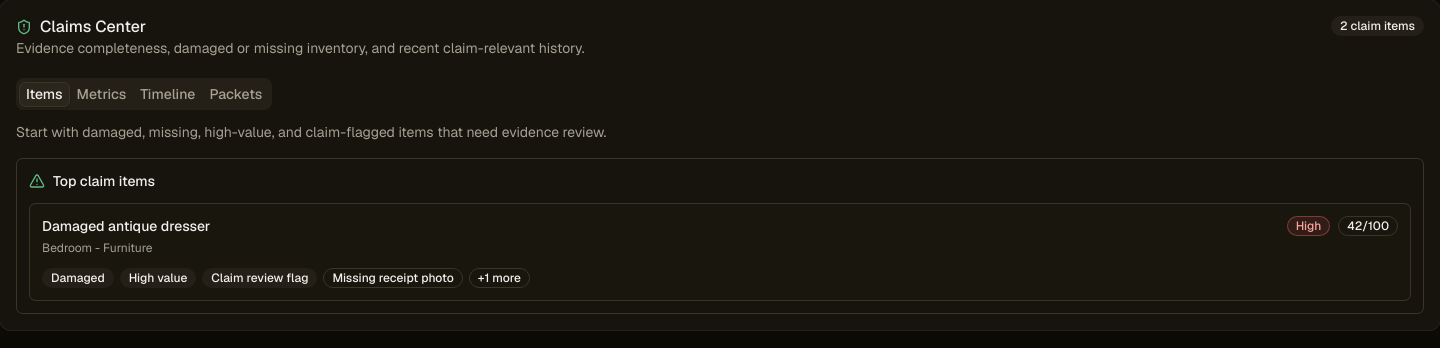
Test: ClaimsCenterPanel task tabs › opens on claim items and separates metrics, timeline, and packet actions
Expected: the text "Start with damaged, missing, high-value, and claim-flagged items that need evidence review." is shown, x1=16 y1=123 x2=606 y2=141
Expected: the text "Top claim items" is shown, x1=29 y1=172 x2=155 y2=190
Click the tab "Metrics": (101, 94) x1=70 y1=82 x2=133 y2=106
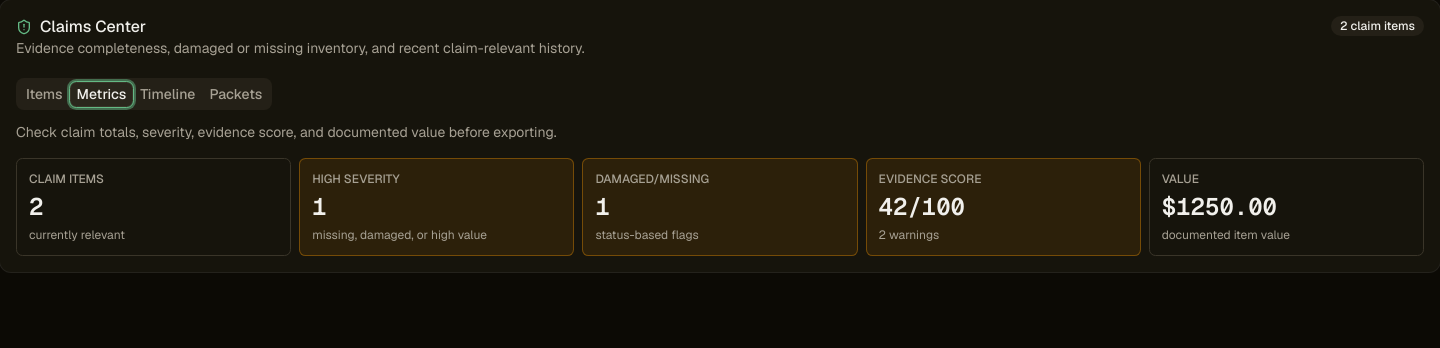
Result: the text "Check claim totals, severity, evidence score, and documented value before exporting." is shown at x1=16 y1=123 x2=557 y2=141
Result: the text "Evidence score" is shown at x1=879 y1=171 x2=981 y2=187
Result: the text "Damaged antique dresser" is gone
Click the tab "Timeline": (168, 94) x1=133 y1=82 x2=202 y2=106
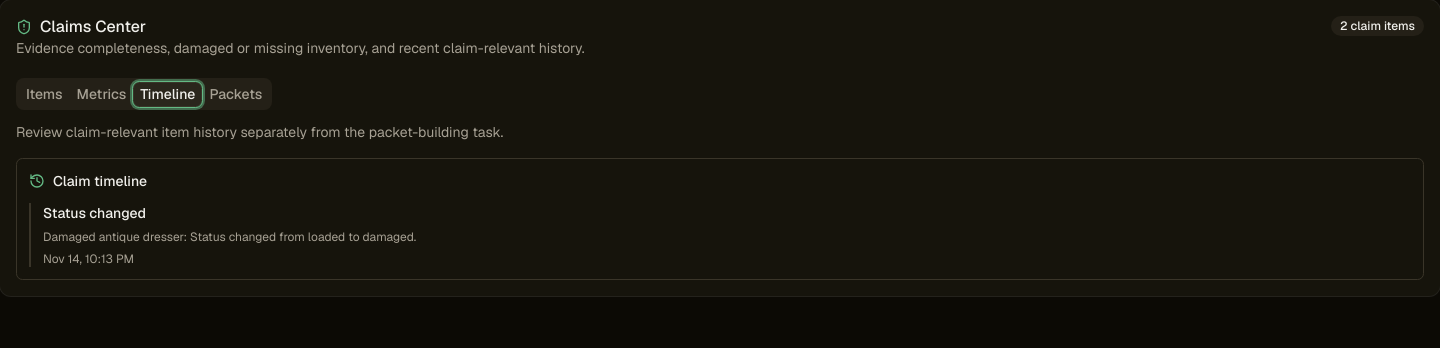
Result: the text "Review claim-relevant item history separately from the packet-building task." is shown at x1=16 y1=123 x2=503 y2=141
Result: the text "Claim timeline" is shown at x1=29 y1=172 x2=147 y2=190
Result: the text "Status changed" is shown at x1=43 y1=204 x2=146 y2=222
Click the tab "Packets": (236, 94) x1=202 y1=82 x2=269 y2=106
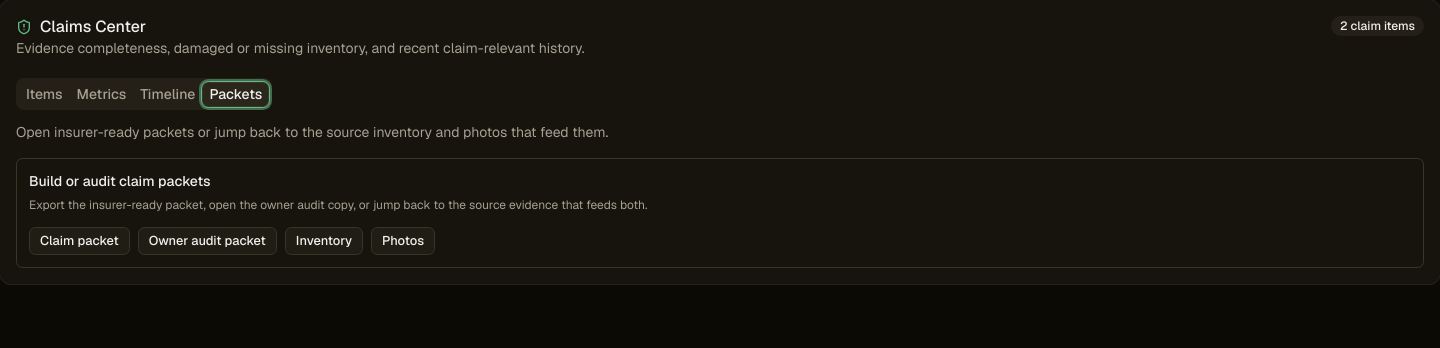
Result: the text "Open insurer-ready packets or jump back to the source inventory and photos that feed them." is shown at x1=16 y1=123 x2=608 y2=141
Result: the text "Build or audit claim packets" is shown at x1=29 y1=172 x2=211 y2=190
Result: the text "Status changed" is gone
